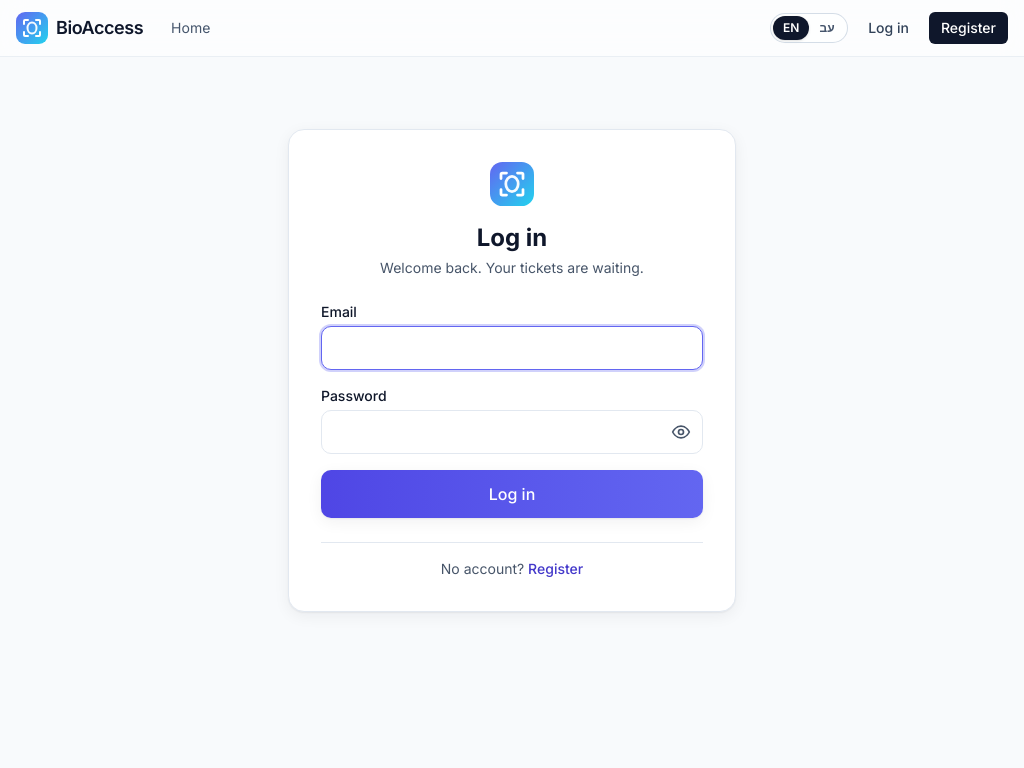
Scenario: login › a GATEKEEPER lands on /gate
In the field labelled "Email": (512,348) [321,326,703,370], type "dana@example.com"
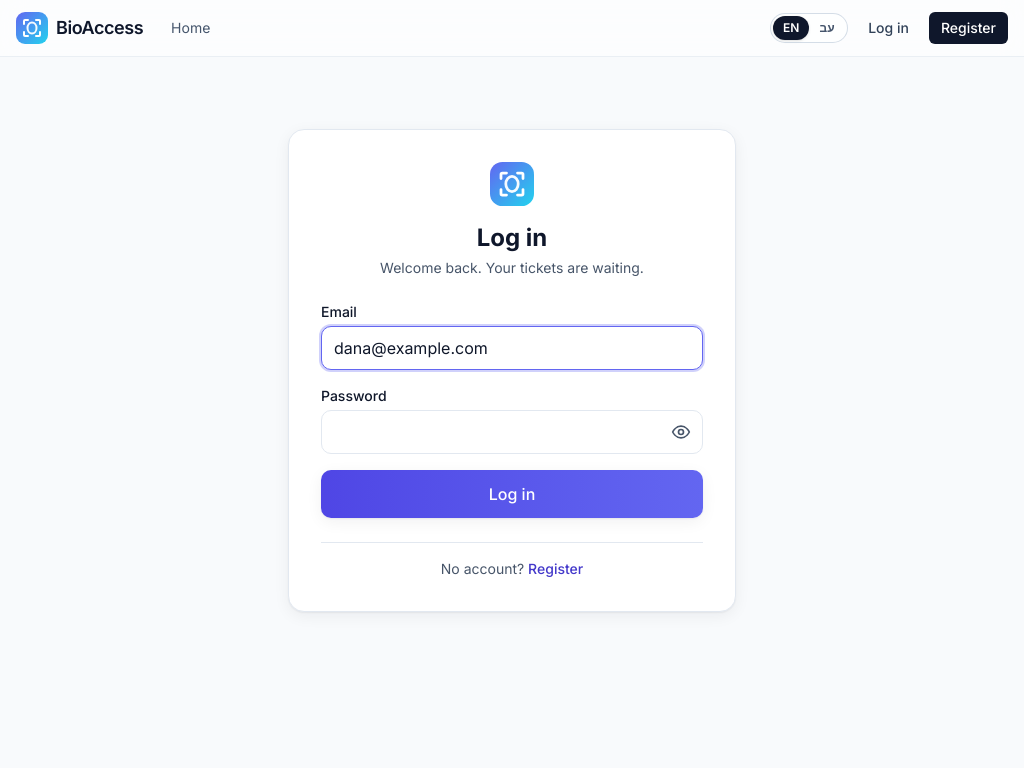
In the password field labelled "Password": (512,432) [321,410,703,454], type "password123"
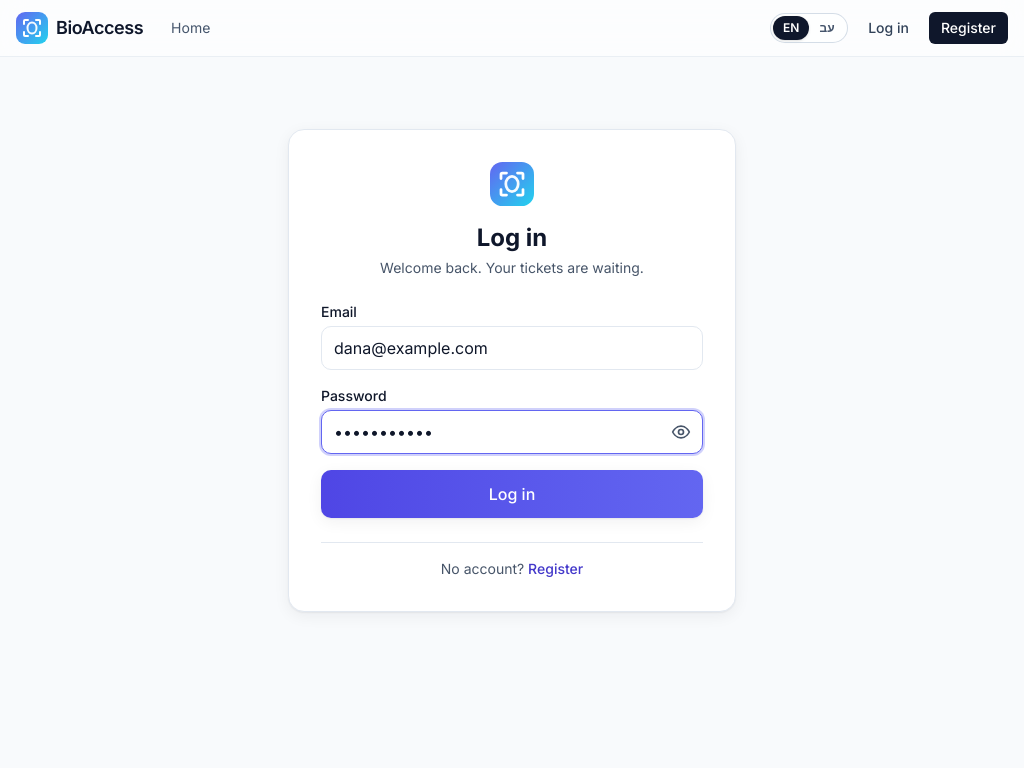
Click the button "Log in": (512,494) [321,470,703,518]
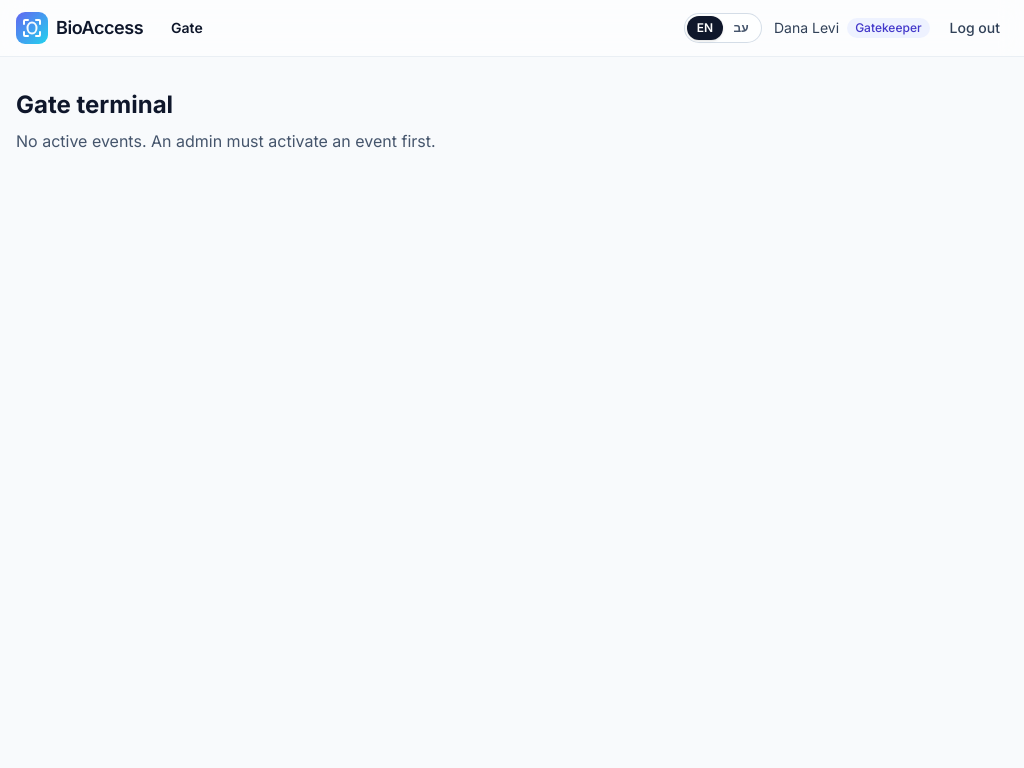
Expected: the heading "Gate terminal" is shown, [16,90,173,119]
Expected: the text "Dana Levi" is shown, [774,18,839,38]
